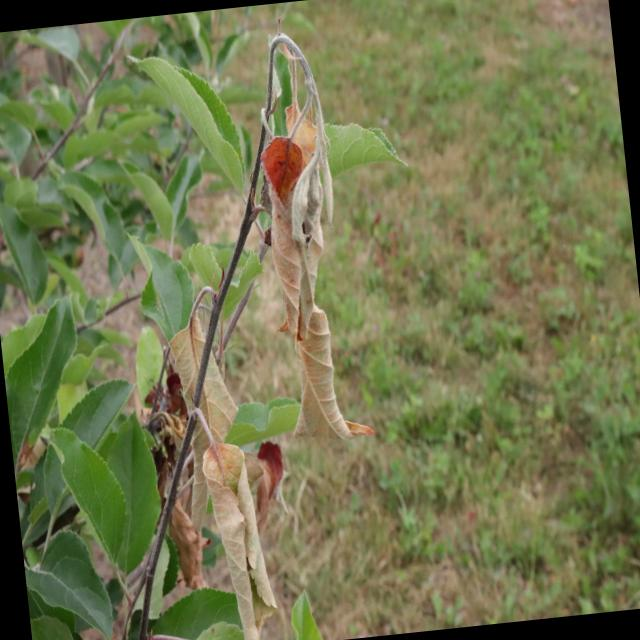-FireBlight-: (240, 18, 374, 454), (140, 334, 278, 640)
